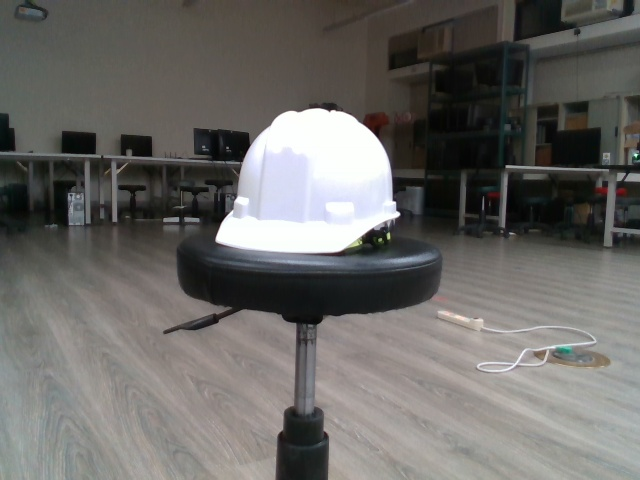helmet: (212, 106, 405, 257)
